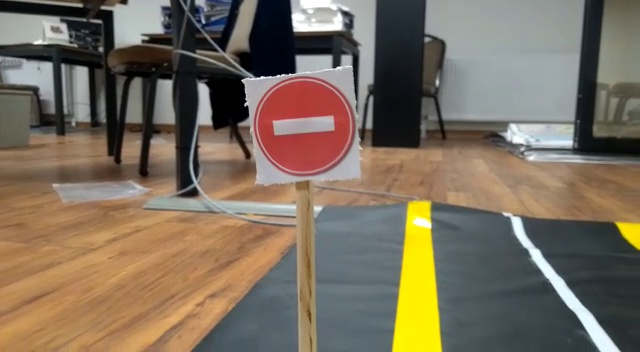girisi_olmayan_yol: (252, 67, 360, 181)
